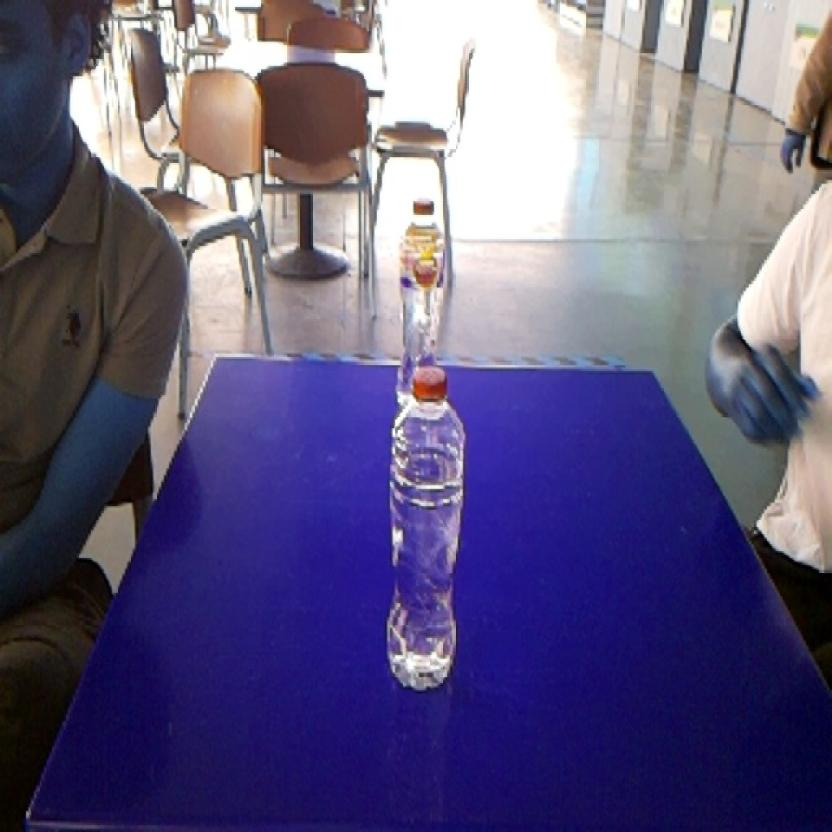good: (392, 191, 458, 360)
no_label: (374, 356, 473, 699)
